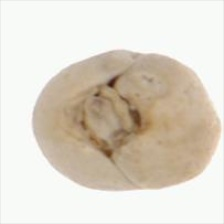L3: (71, 77, 143, 160)
L4: (32, 49, 220, 191)
